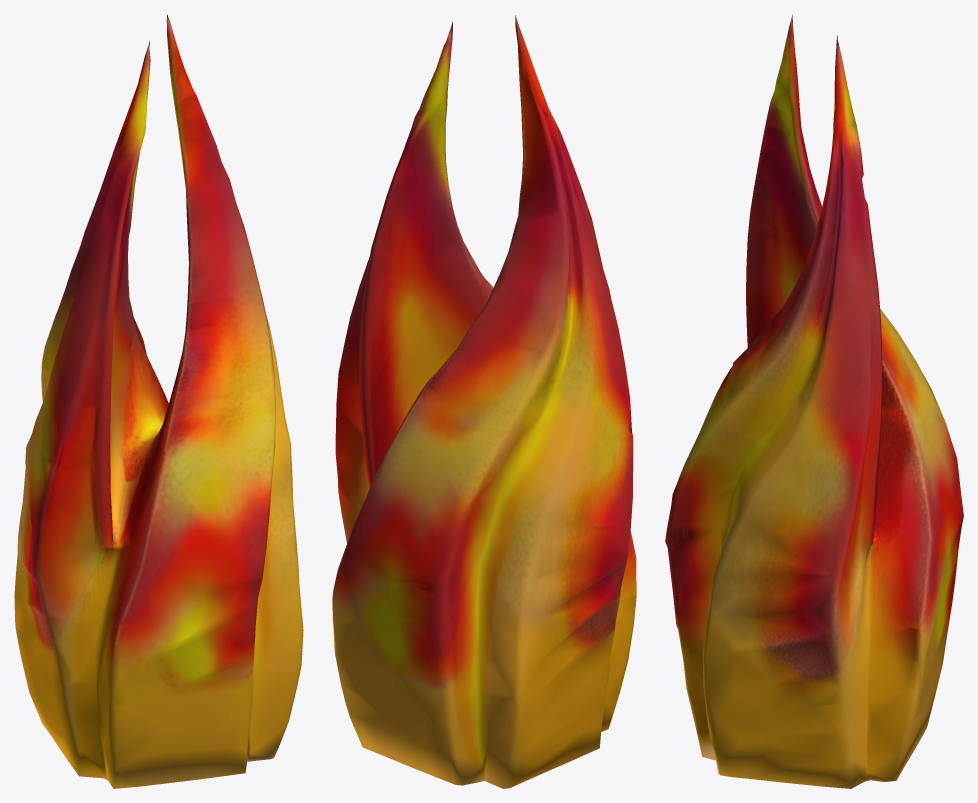
Rendered from room_secret-web.glb.
3 renders of one model, left to right at view 1: azimuth 30°, elevation 25°; view 2: azimuth 150°, elevation 25°; view 3: azimuth 270°, elevation 25°, orthographic.
Bounding box in the file's own units: 0.7802 × 2 × 0.7537.
1 material, 1 textured.
